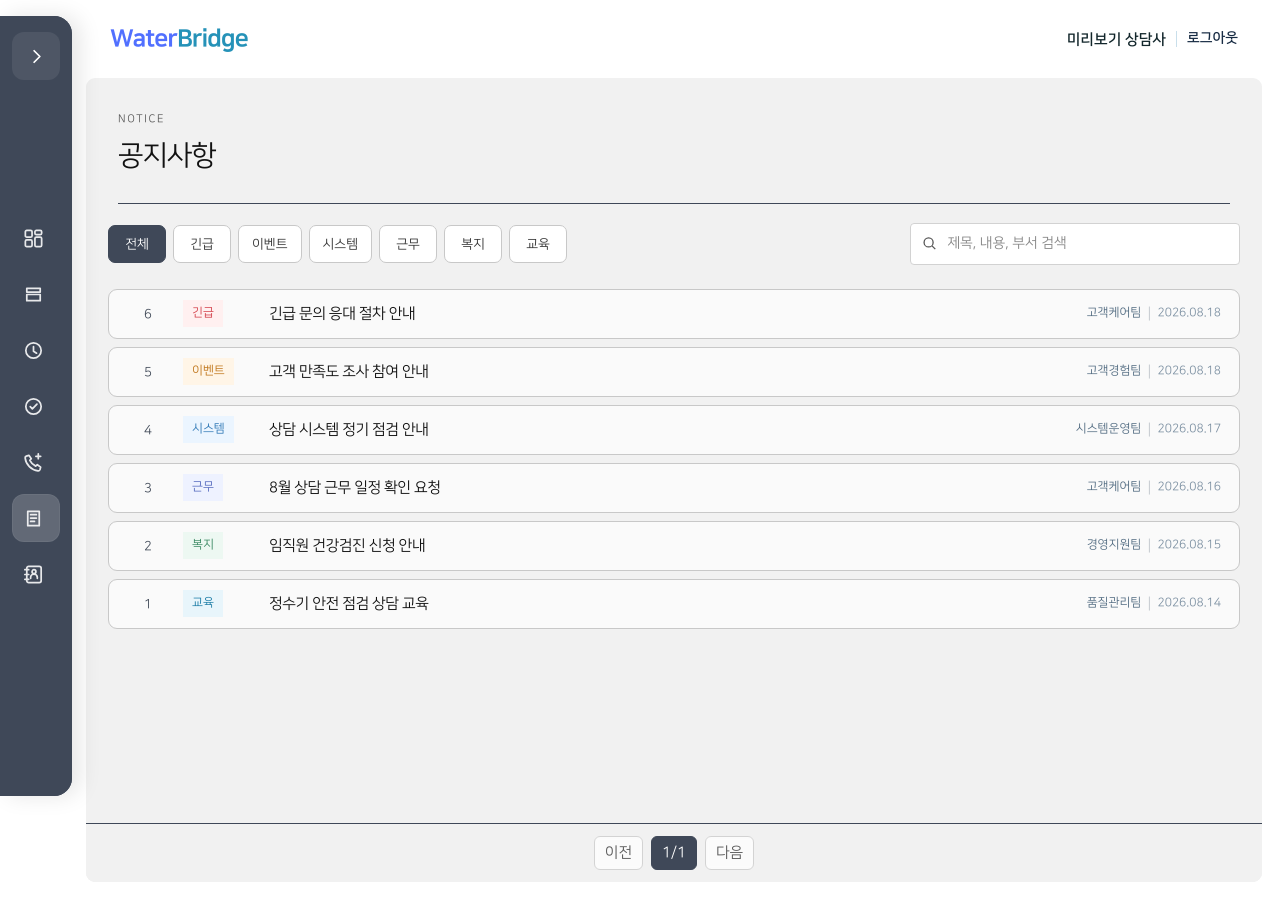
Test: 디자인 미리보기의 배포용 화면 공통 사용 › 공지 메뉴의 실제 페이지네이션·상세 이동을 샘플 API로 유지한다
Expected: the navigation bar named "공지사항 목록 페이지" is shown, x1=86 y1=823 x2=1262 y2=882
Click the button "6 긴급 긴급 문의 응대 절차 안내 고객케어팀 | 2026.08.18" at (203, 314), box x1=108 y1=289 x2=1240 y2=339
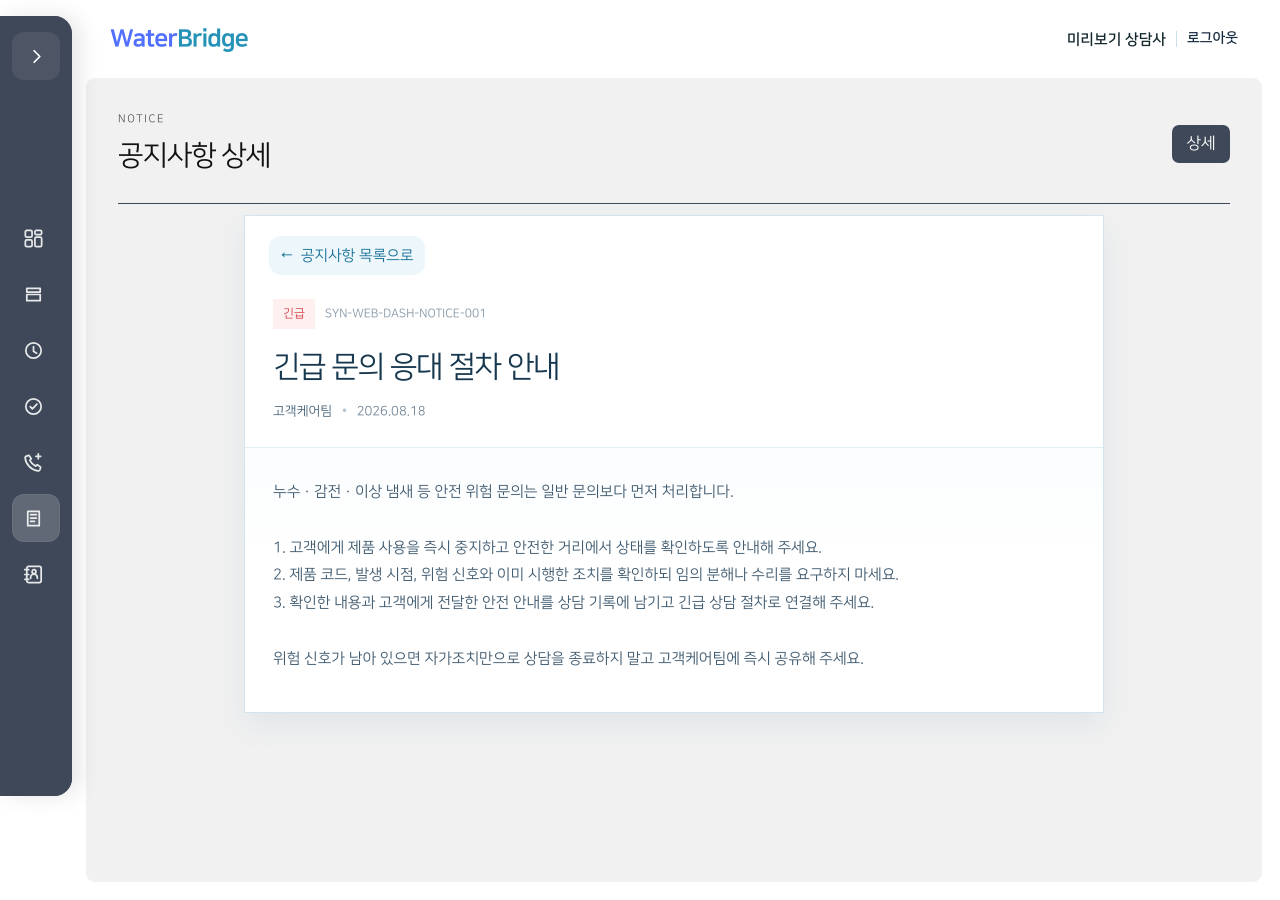
Expected: the heading "긴급 문의 응대 절차 안내" is shown, x1=273 y1=350 x2=559 y2=384
Expected: the heading "공지사항 상세" is shown, x1=118 y1=134 x2=270 y2=178
Click the button "← 공지사항 목록으로" at (347, 255), box x1=269 y1=236 x2=425 y2=275
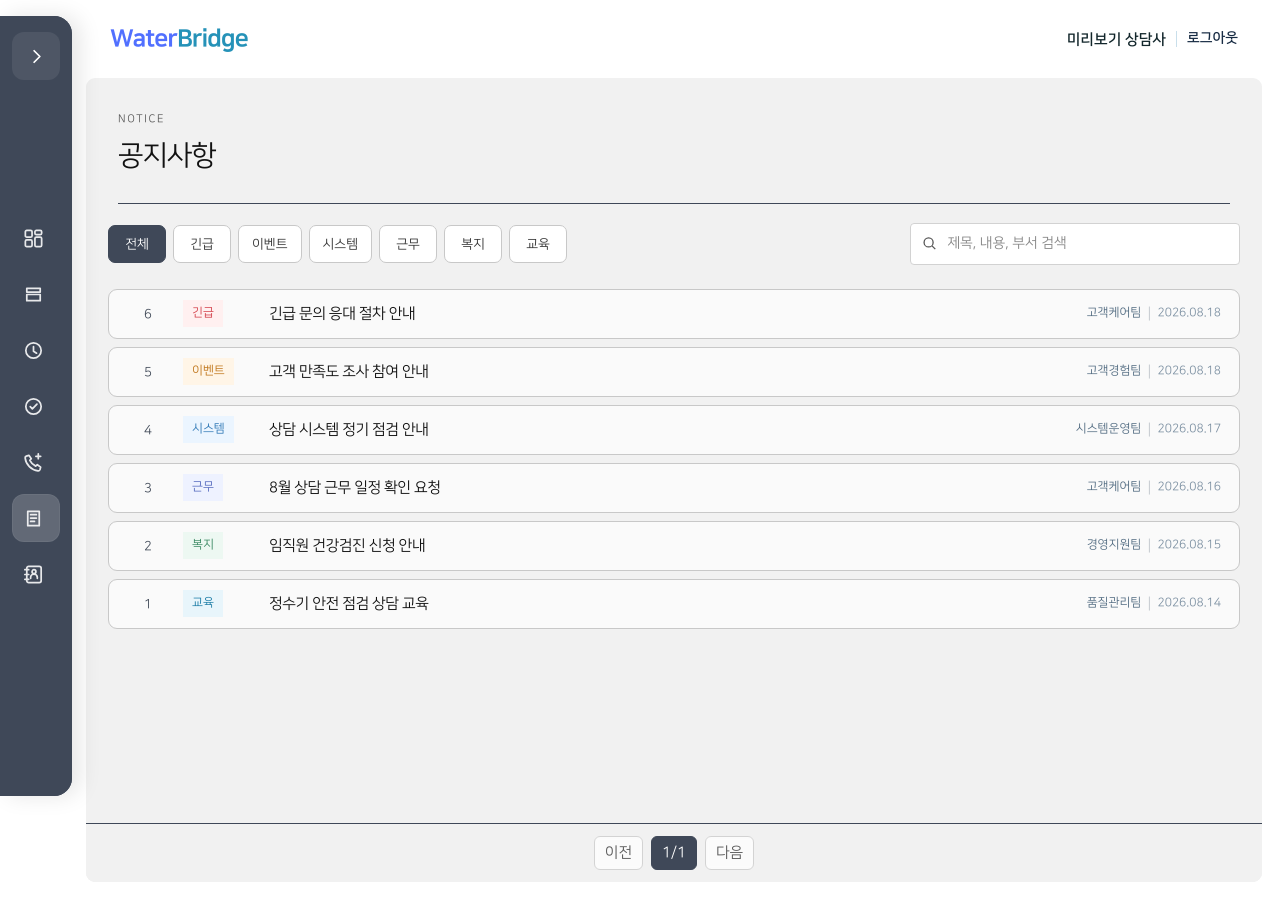
Expected: the navigation bar named "공지사항 목록 페이지" is shown, x1=86 y1=823 x2=1262 y2=882
